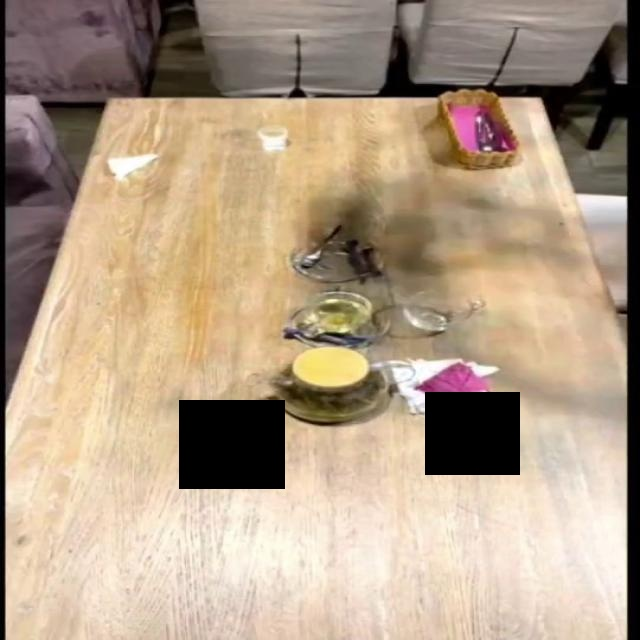tea: (267, 345, 391, 423)
